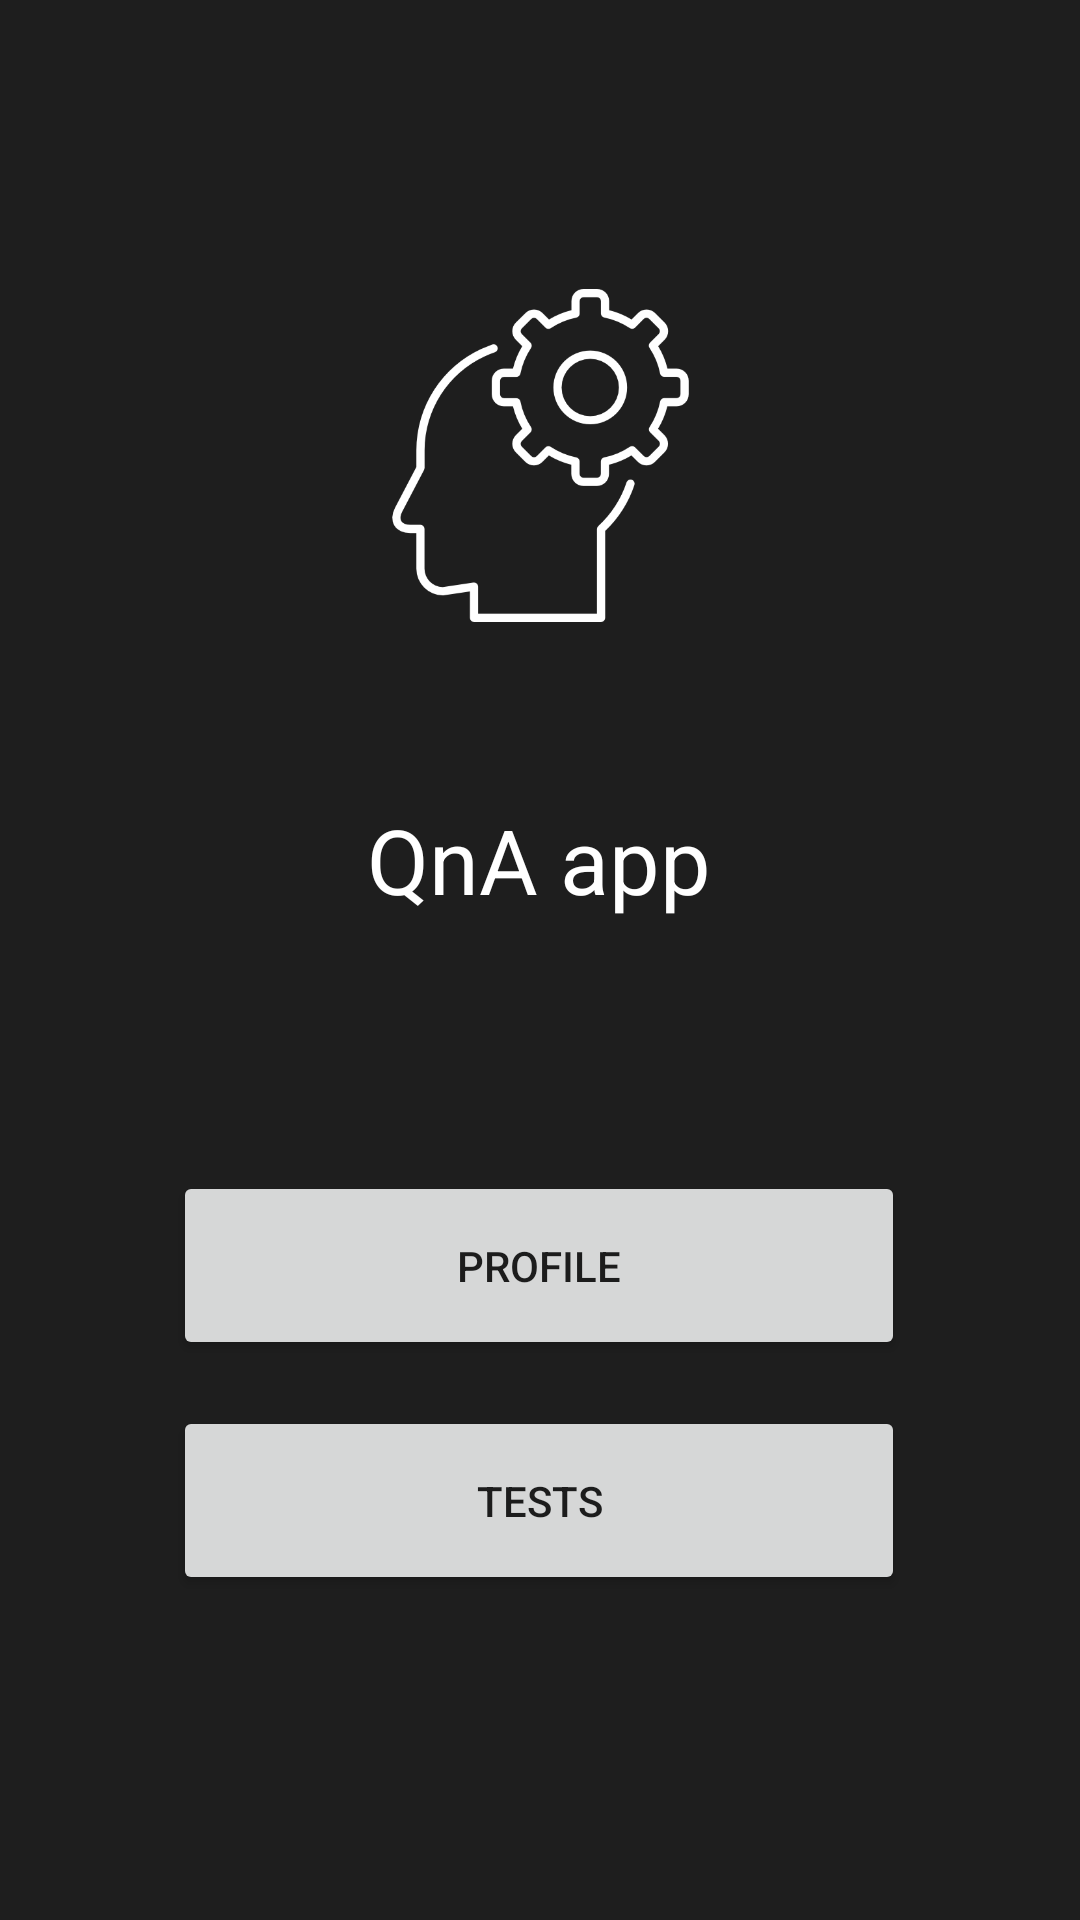

Icons on this 1080 × 1920 Android screen, each with the point to tap as (x=x, y=y):
head: (x=540, y=455)
